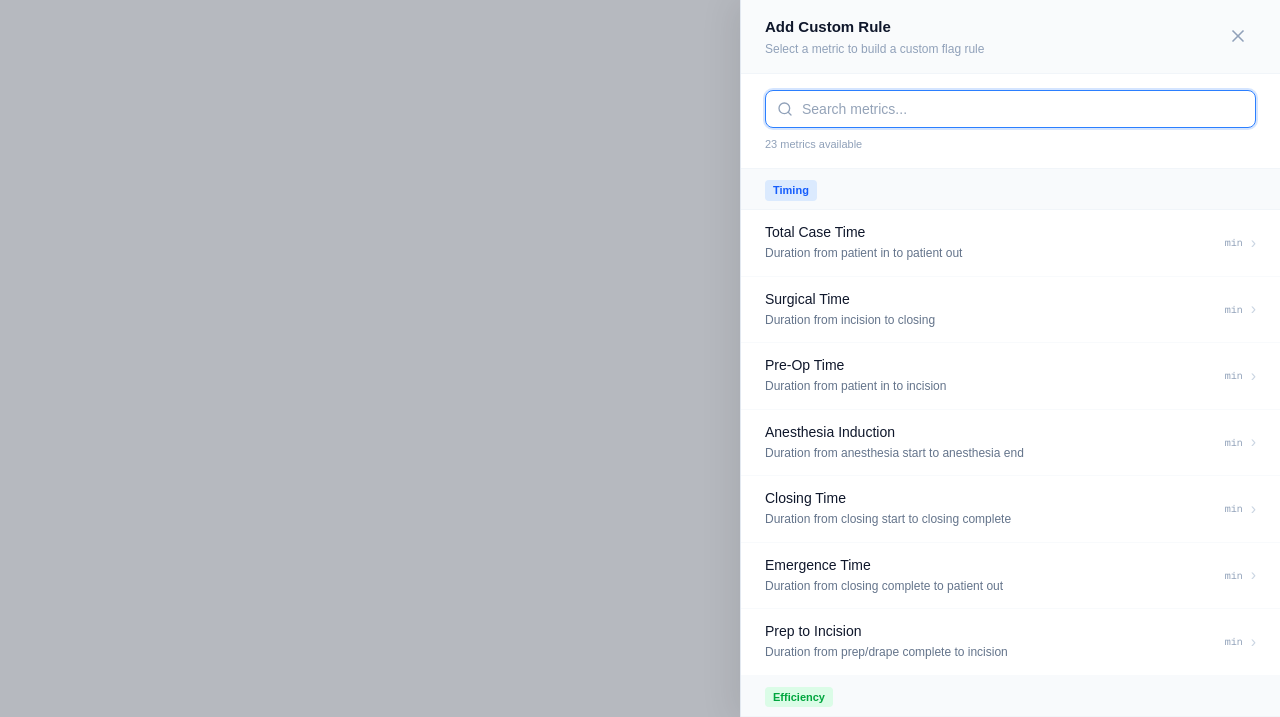
Test: MetricSearchBuilder › Submit and close behavior › Add Rule button is enabled when name is filled
Click the text "Total Case Time".
click(815, 232)  # box 765,224 -> 865,240
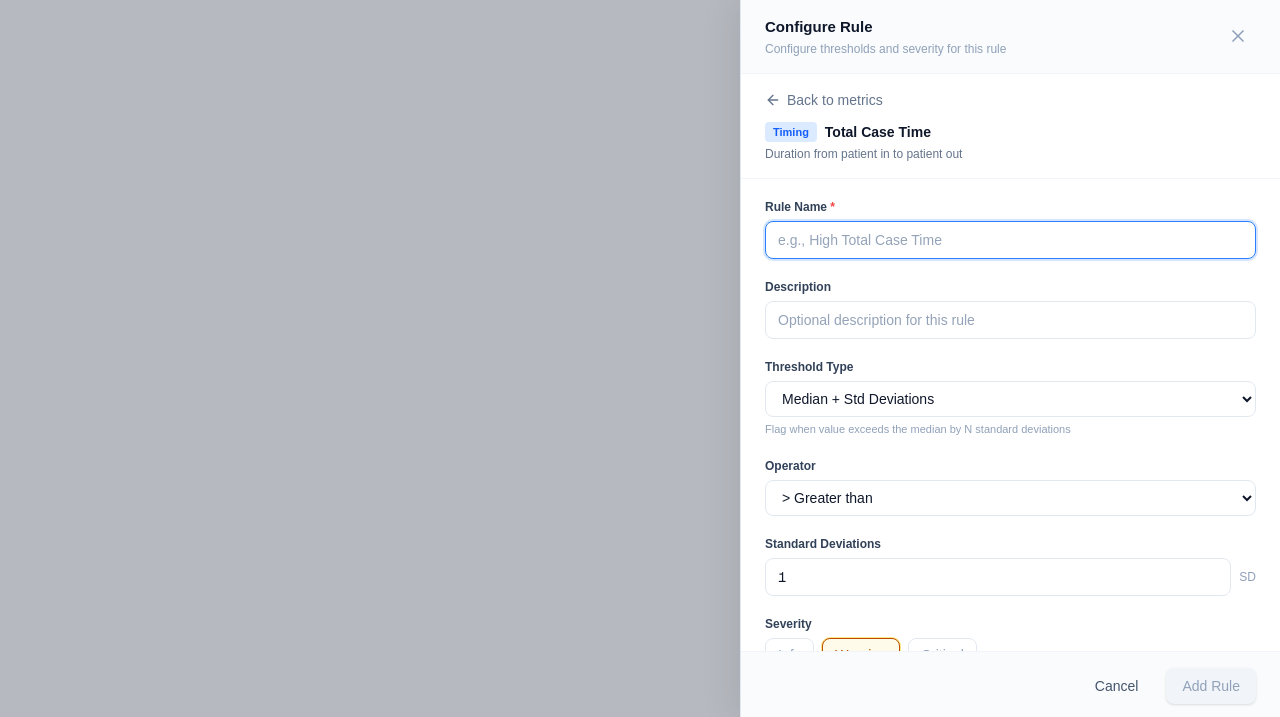
Now the heading "Configure Rule" is shown, box 765,18 -> 872,35
Type "High Total Case Time" into the field with placeholder "e.g., High Total Case Time".
click(1010, 240); type("High Total Case Time")  # box 765,221 -> 1256,259
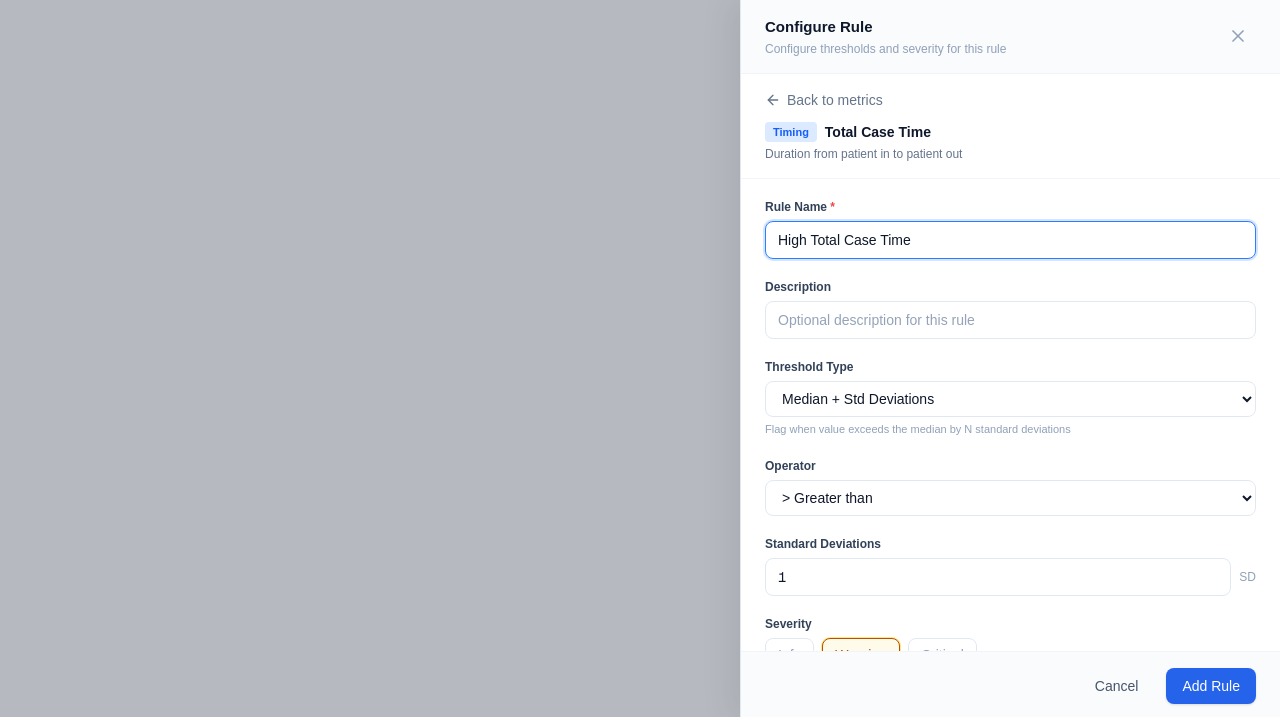
Now the button "Add Rule" is enabled, box 1166,668 -> 1256,704
